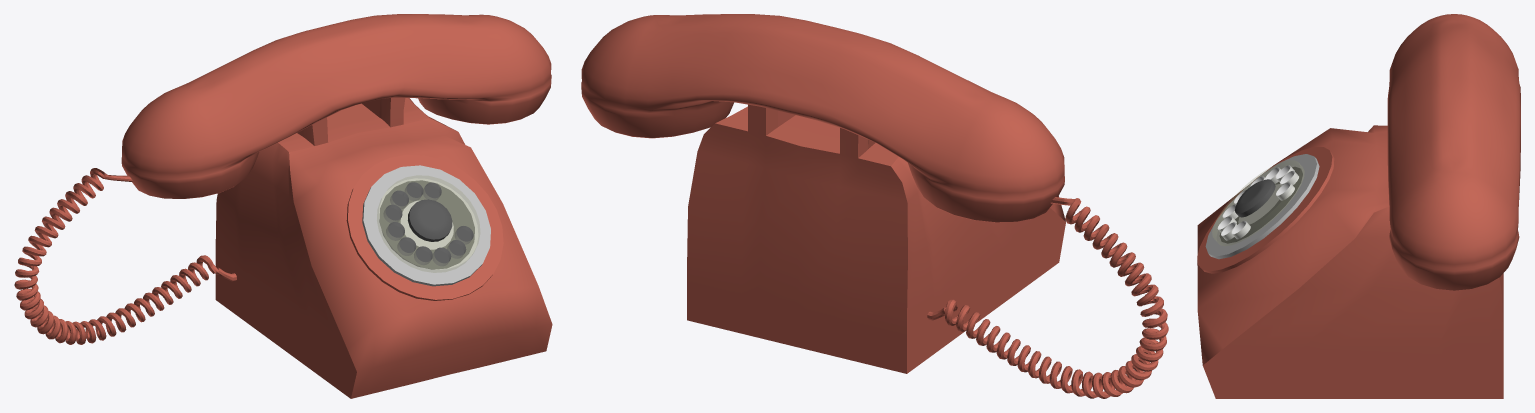
Rendered from phonefinal.glb.
3 views of the same model, side by side, from view 1: azimuth 30°, elevation 25°; view 2: azimuth 150°, elevation 25°; view 3: azimuth 270°, elevation 25° (orthographic). The views are drawn at different scales.
Visible parts, largest first — view 1: phonebody, reciever, numbers, cord_up, Base, holes, center; view 2: phonebody, reciever, cord_up; view 3: phonebody, reciever, numbers, holes, Base, center.
Part boxes in pixels (x1,y1,x2,y2): phonebody: (215,97,552,398); reciever: (121,14,551,198); numbers: (362,165,490,286); cord_up: (14,168,236,344); Base: (346,155,503,300); holes: (377,175,479,272); center: (407,199,452,241); phonebody: (687,104,1065,373); reciever: (581,14,1064,222); cord_up: (927,197,1168,398); phonebody: (1197,125,1503,398); reciever: (1387,14,1520,290); numbers: (1205,154,1319,259); holes: (1212,160,1304,245); Base: (1197,147,1334,273); center: (1234,179,1275,217).
Size of the model in its own units: 0.1274 by 0.0614 by 0.0643.
